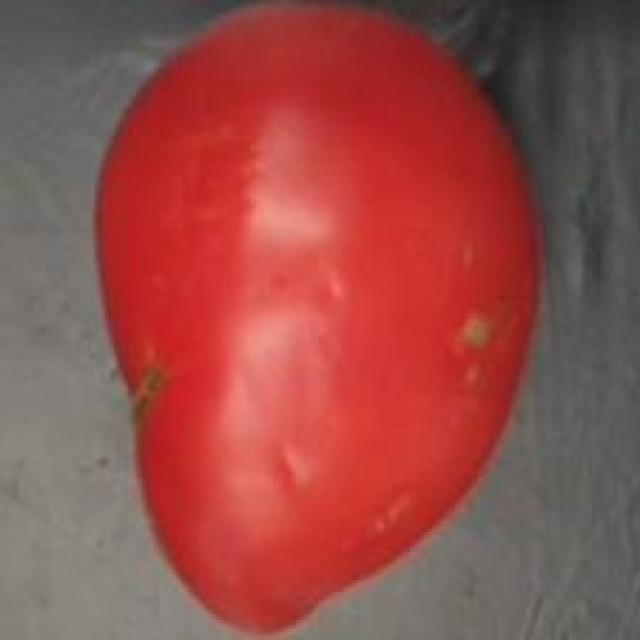overripe tomato: (94, 0, 543, 640)
